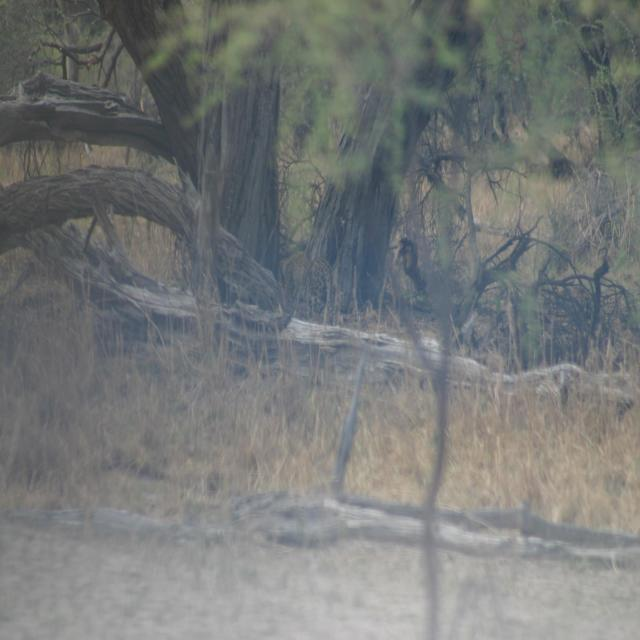Leopard: (273, 247, 335, 325)
